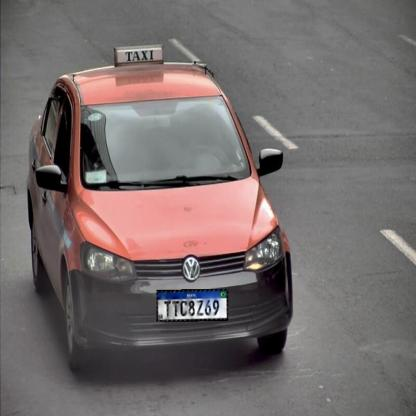PlacaM: (157, 289, 228, 322)
